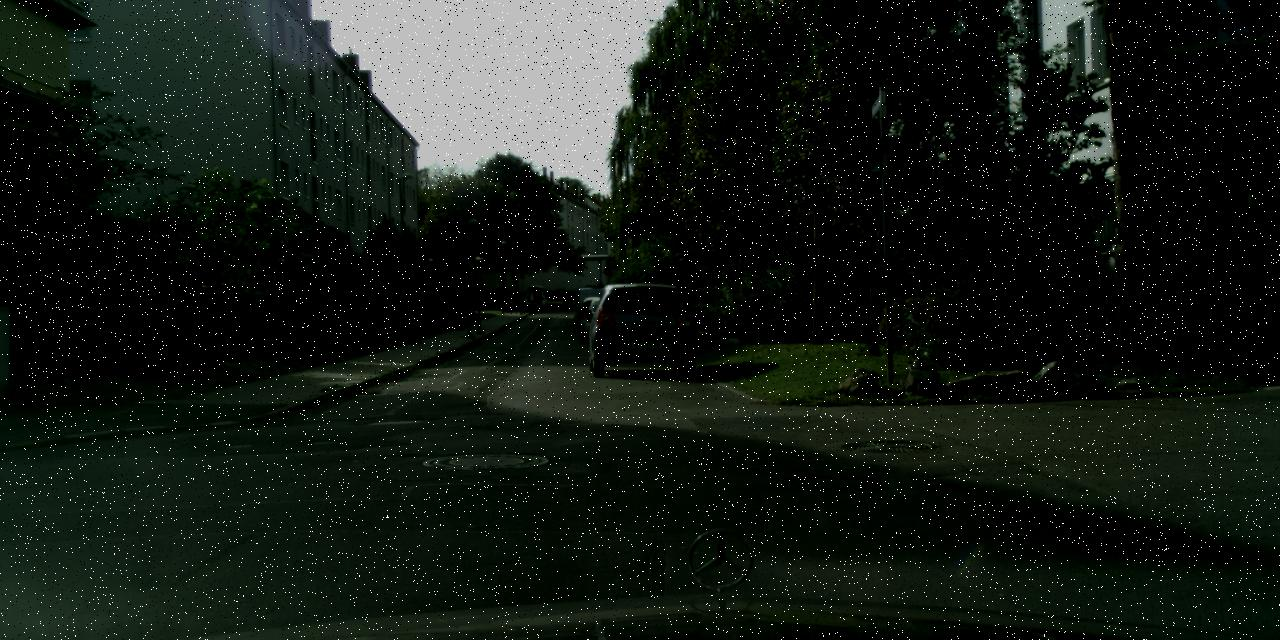ped: (528, 291, 535, 309), (536, 292, 542, 309)
